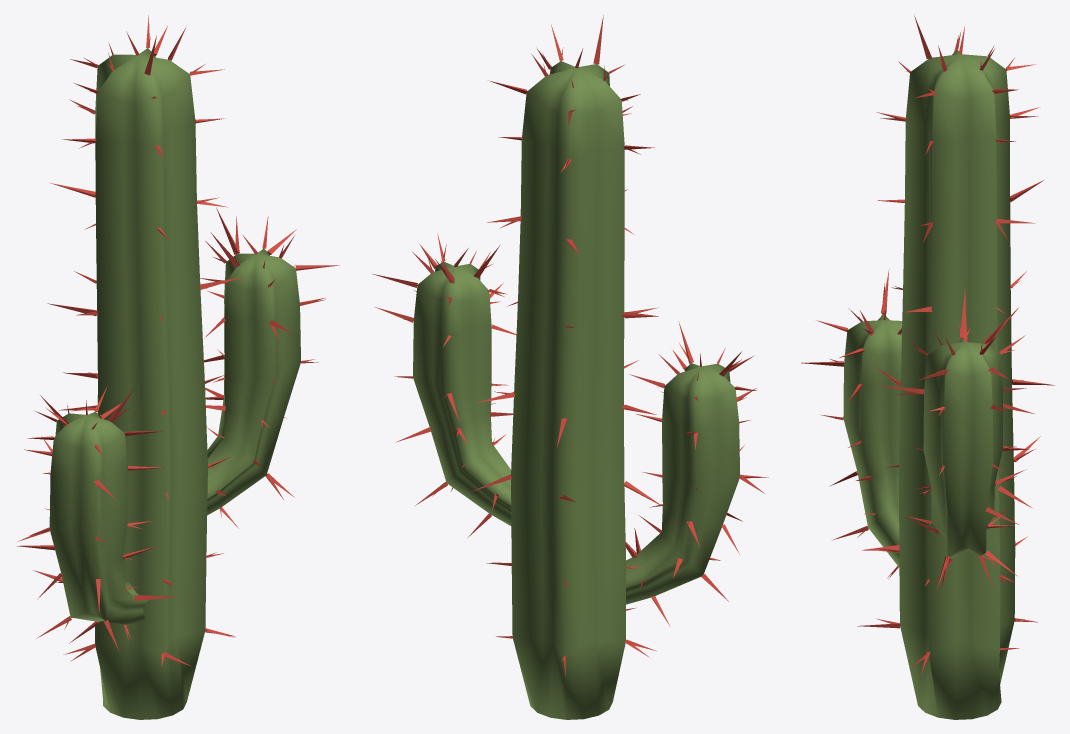
The model's file is cactusMed2.fbx.
3 renders of one model, left to right at view 1: azimuth 30°, elevation 25°; view 2: azimuth 150°, elevation 25°; view 3: azimuth 270°, elevation 25°, orthographic.
Visible parts, largest first — view 1: cactusMed2; view 2: cactusMed2; view 3: cactusMed2.
Part boxes in pixels (x1,y1,x2,y2): cactusMed2: (17, 15, 339, 719); cactusMed2: (372, 15, 768, 719); cactusMed2: (801, 16, 1054, 719).
Bounding box in the file's own units: 2.53 × 4.85 × 1.66.
